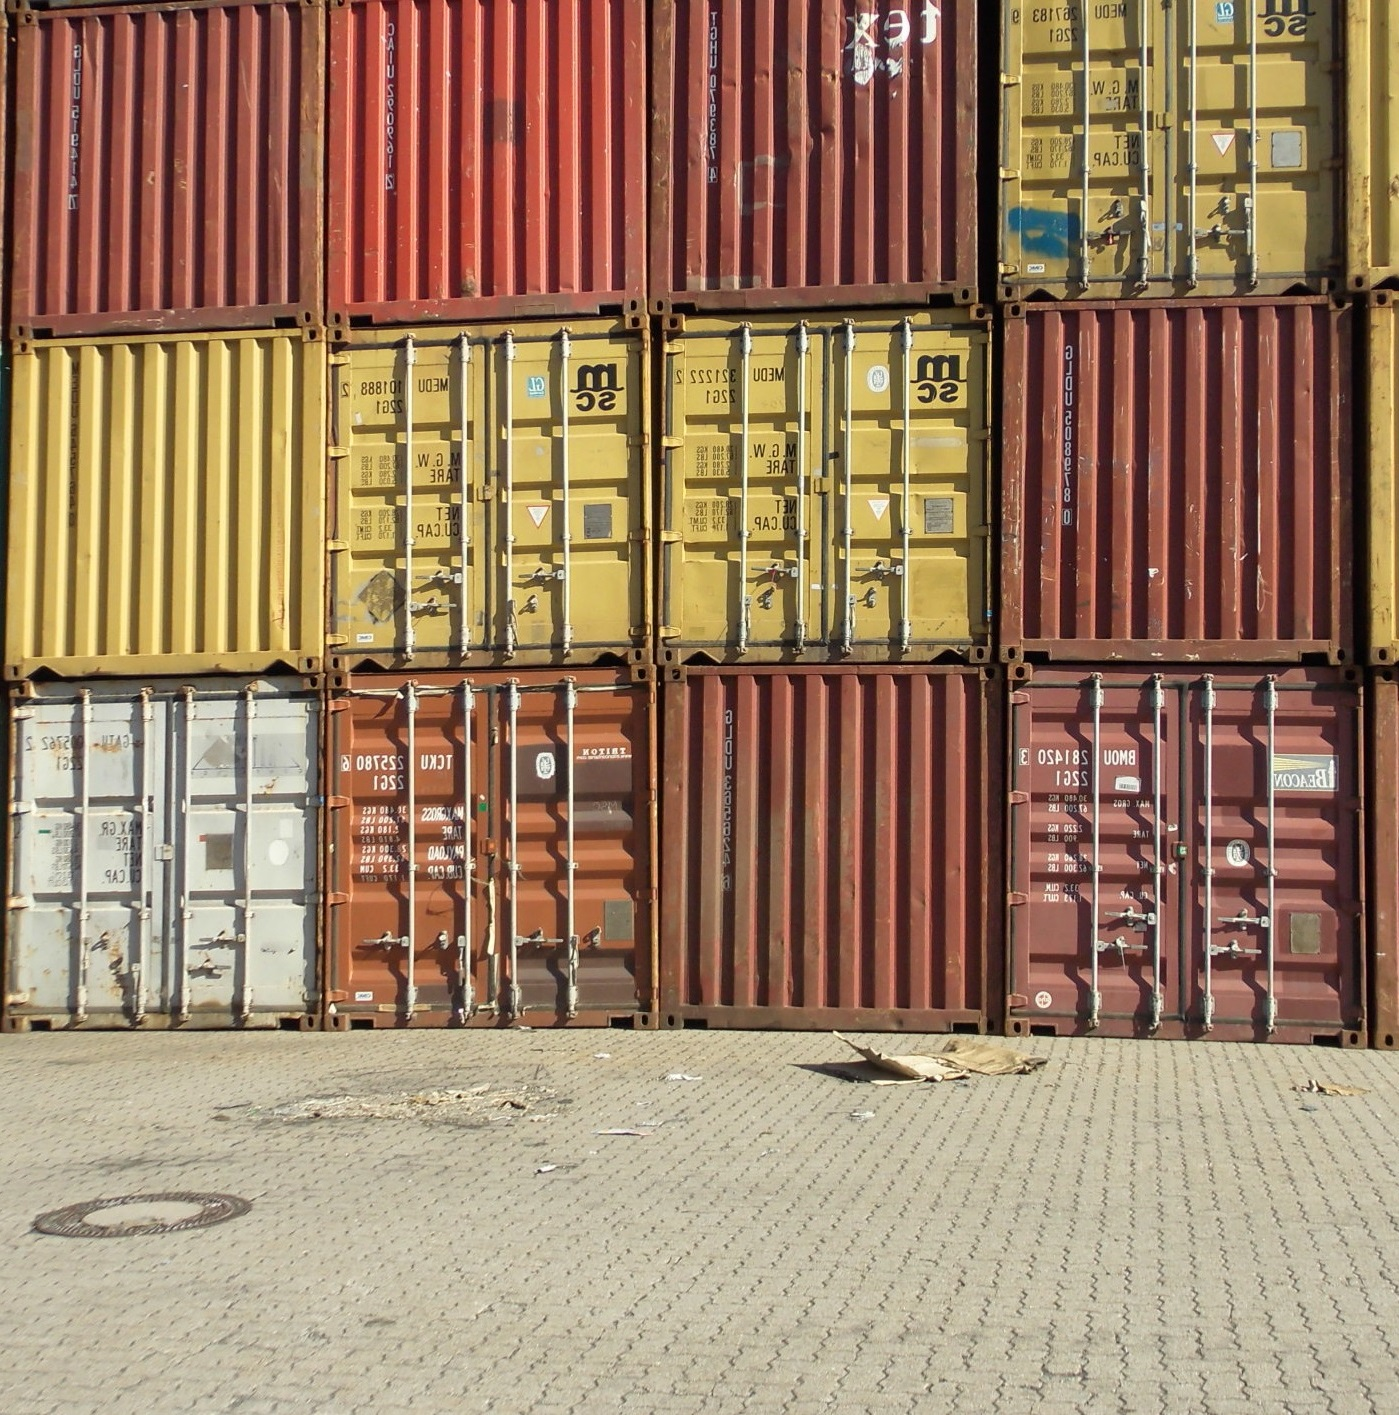container_door: (1008, 668, 1358, 1046), (659, 302, 1013, 663), (328, 675, 656, 1022), (323, 323, 651, 668), (1, 684, 327, 1030), (995, 1, 1352, 299)
container_no_door: (1007, 304, 1352, 666), (660, 669, 1004, 1032), (9, 336, 319, 678), (13, 1, 323, 342), (652, 1, 985, 311), (331, 1, 644, 315)
